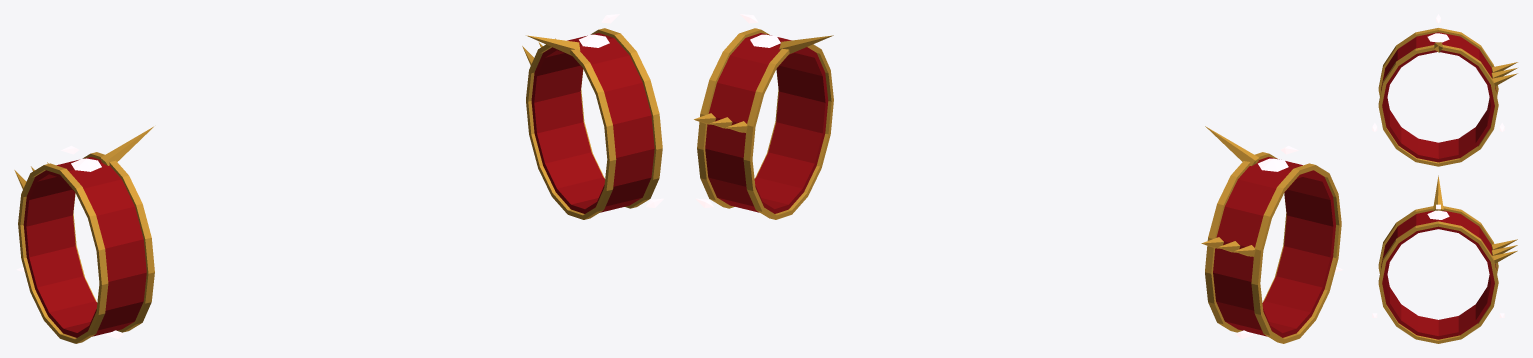
File: armor_knight_arms_mythic_human.glb
3 views of the same model, side by side, from view 1: azimuth 30°, elevation 25°; view 2: azimuth 150°, elevation 25°; view 3: azimuth 270°, elevation 25° (orthographic). The views are drawn at different scales.
Visible parts, largest first — view 1: armor_knight_arms_mythic_human__lowerarm_r, armor_knight_arms_mythic_human__lowerarm_l; view 2: armor_knight_arms_mythic_human__lowerarm_r, armor_knight_arms_mythic_human__lowerarm_l; view 3: armor_knight_arms_mythic_human__lowerarm_l, armor_knight_arms_mythic_human__lowerarm_r.
Boxes of the visible parts, box(x1,y1,x2,y2) form: armor_knight_arms_mythic_human__lowerarm_r: box(14, 126, 154, 343); armor_knight_arms_mythic_human__lowerarm_l: box(522, 14, 663, 219); armor_knight_arms_mythic_human__lowerarm_r: box(1201, 126, 1343, 343); armor_knight_arms_mythic_human__lowerarm_l: box(694, 14, 833, 219); armor_knight_arms_mythic_human__lowerarm_l: box(1372, 175, 1517, 343); armor_knight_arms_mythic_human__lowerarm_r: box(1372, 14, 1517, 166).
Size of the model in its own units: 120 by 38.77 by 37.86.
